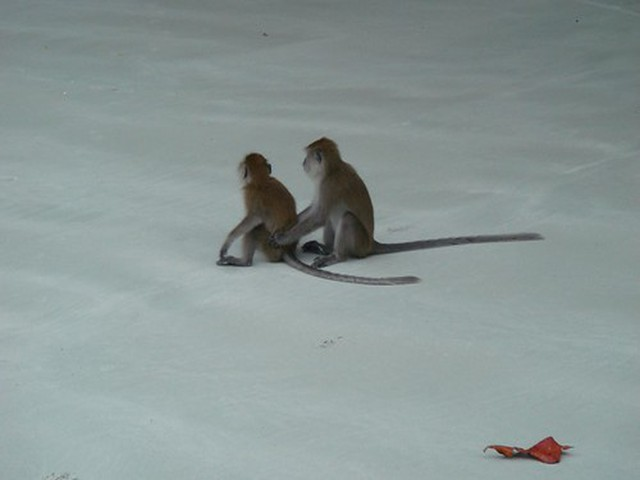Monkey: (216, 136, 454, 283)
